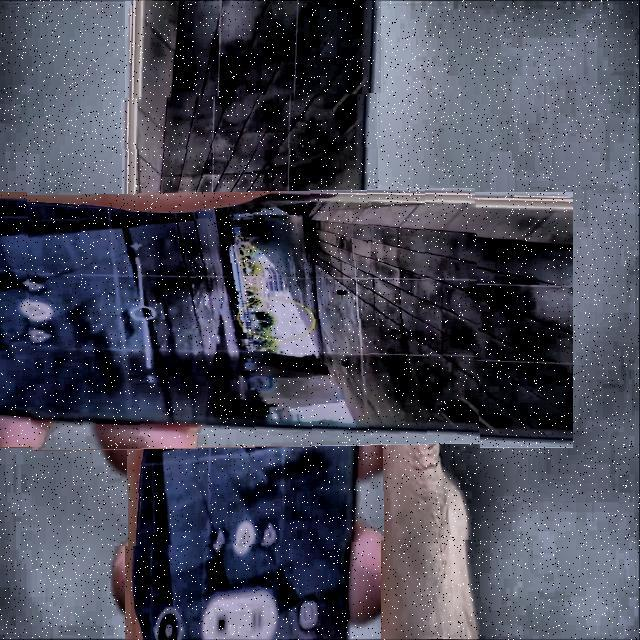Phone: (28, 94, 480, 546)
